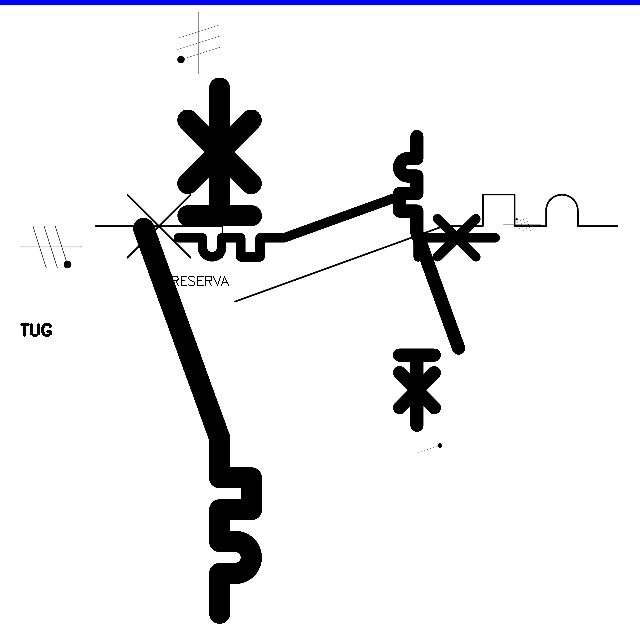interruptor_termomagnetico: (130, 74, 265, 626), (82, 181, 631, 315), (170, 184, 503, 265), (392, 129, 466, 432)
